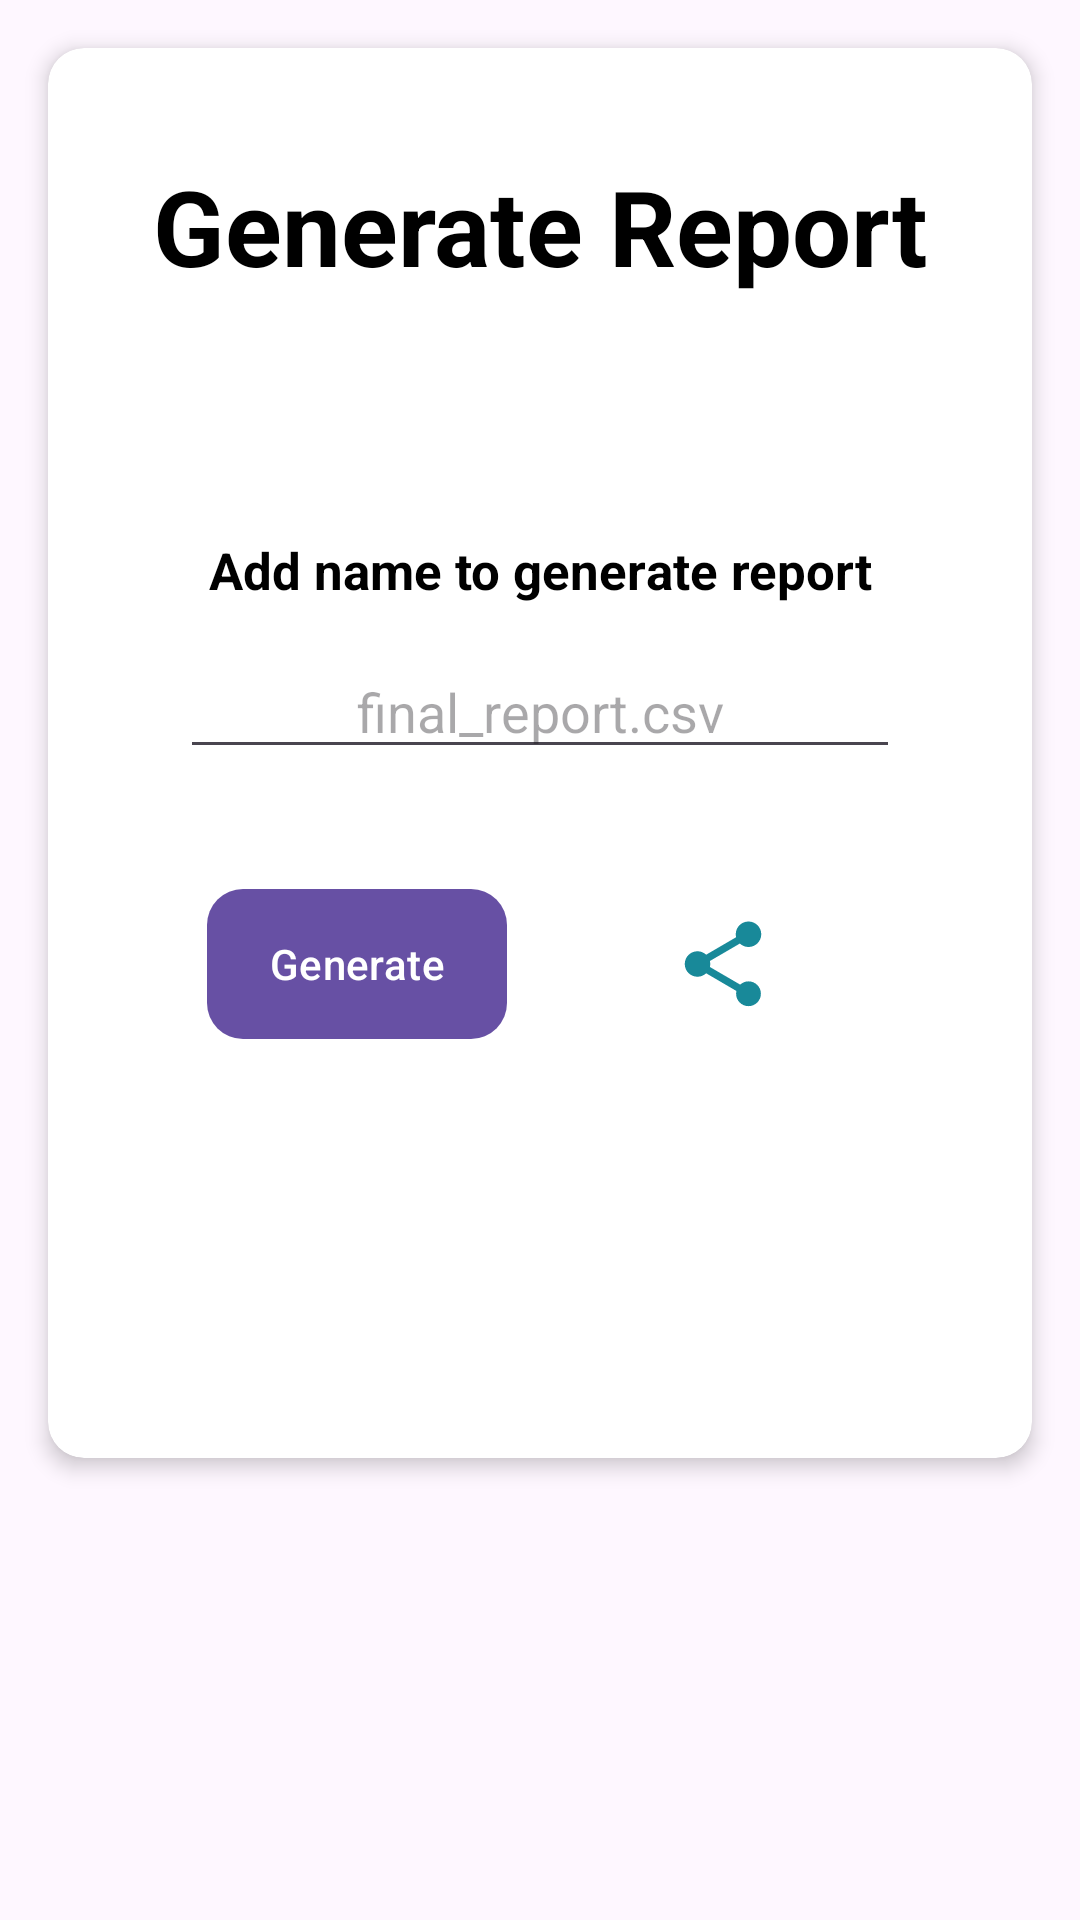

Icons on this 1080px×1920px Android screen, each with its box as (x1, y1, x2, y2):
share: (684, 921, 762, 1007)
